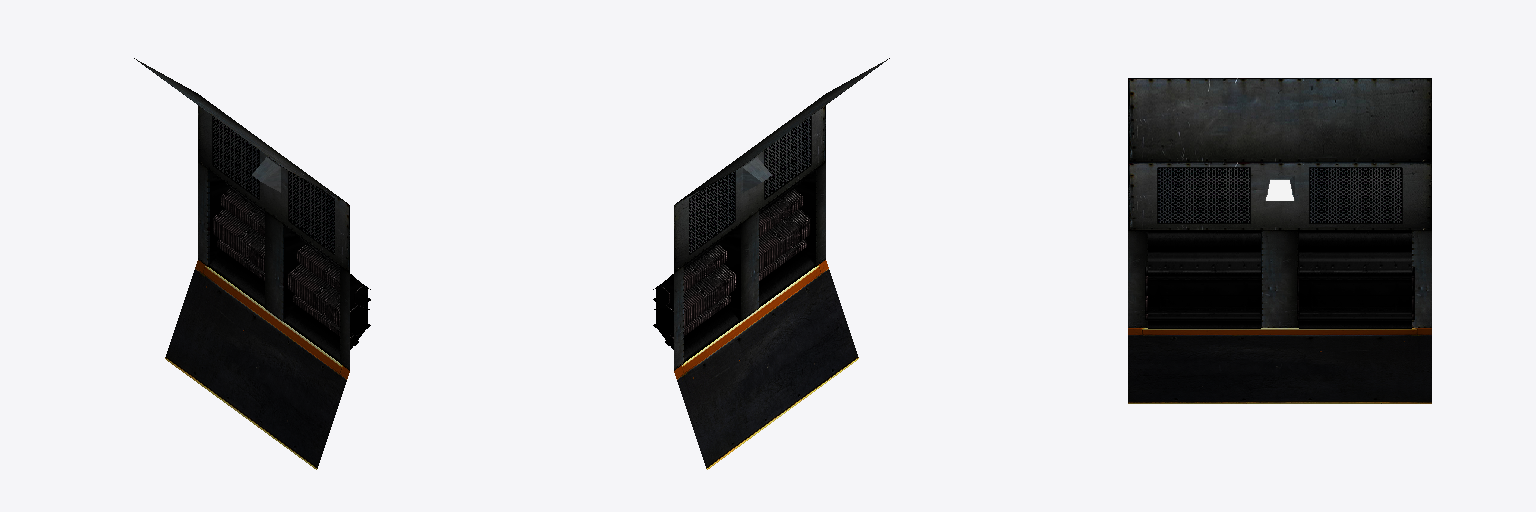
3 views of the same model, side by side, from view 1: azimuth 30°, elevation 25°; view 2: azimuth 150°, elevation 25°; view 3: azimuth 270°, elevation 25° (orthographic).
Parts seen in each view (by area): view 1: Plane003; view 2: Plane003; view 3: Plane003.
Boxes of the visible parts, <box> form: Plane003: <box>134,58,370,469</box>; Plane003: <box>653,58,889,469</box>; Plane003: <box>1128,78,1431,403</box>.
Bounding box in the file's own units: 29.1 × 90 × 80.
2 materials, 2 textured.